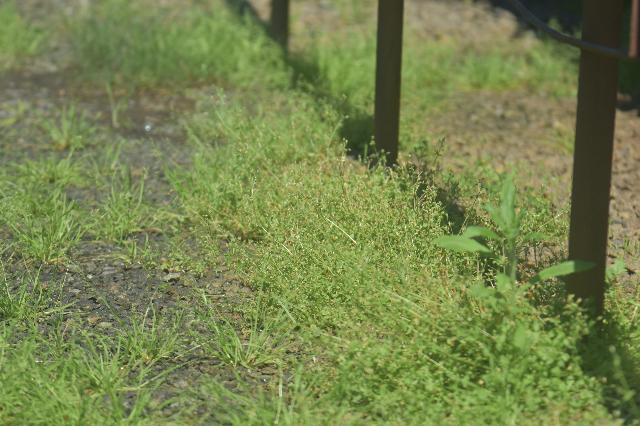MalezaMontesDelPlata: (428, 173, 602, 367), (171, 85, 359, 243), (0, 308, 169, 426), (328, 339, 528, 426), (270, 236, 433, 339), (0, 149, 98, 279), (352, 127, 462, 241), (171, 282, 299, 372), (89, 163, 179, 251)
